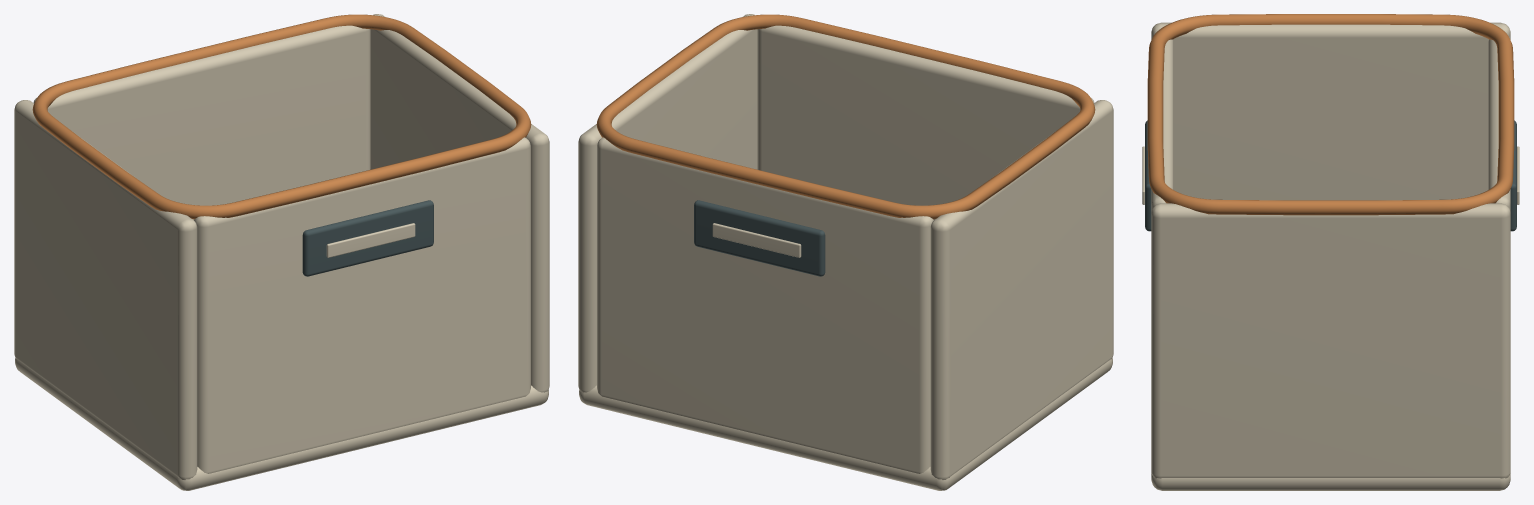
Rendered from storage-basket-040.glb.
3 views of the same model, side by side, from view 1: azimuth 30°, elevation 25°; view 2: azimuth 150°, elevation 25°; view 3: azimuth 270°, elevation 25° (orthographic). The views are drawn at different scales.
Parts seen in each view (by area): view 1: storage-basket-040 / 17 / oatmeal linen, storage-basket-040 / 18 / saffron textile, storage-basket-040 / 06 • dark anodized frame; view 2: storage-basket-040 / 17 / oatmeal linen, storage-basket-040 / 18 / saffron textile, storage-basket-040 / 06 • dark anodized frame; view 3: storage-basket-040 / 17 / oatmeal linen, storage-basket-040 / 18 / saffron textile, storage-basket-040 / 06 • dark anodized frame.
Part boxes in pixels (x1,y1,x2,y2): storage-basket-040 / 17 / oatmeal linen: (14, 14, 549, 490); storage-basket-040 / 18 / saffron textile: (32, 14, 531, 219); storage-basket-040 / 06 • dark anodized frame: (302, 200, 433, 276); storage-basket-040 / 17 / oatmeal linen: (578, 14, 1113, 490); storage-basket-040 / 18 / saffron textile: (596, 14, 1095, 219); storage-basket-040 / 06 • dark anodized frame: (694, 200, 825, 276); storage-basket-040 / 17 / oatmeal linen: (1142, 22, 1519, 490); storage-basket-040 / 18 / saffron textile: (1147, 14, 1514, 215); storage-basket-040 / 06 • dark anodized frame: (1145, 120, 1516, 231).
Size of the model in its own units: 0.4065 by 0.287 by 0.336.
